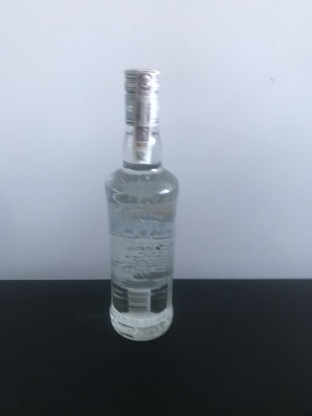nakretka: (121, 65, 163, 130)
